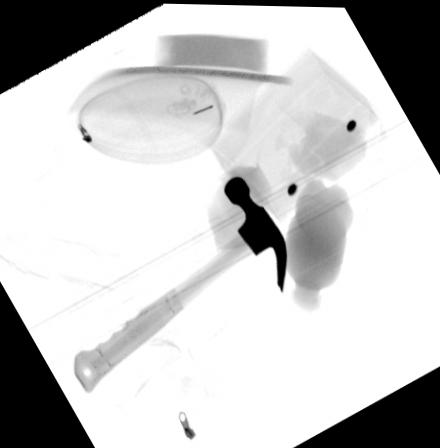Hammer: (71, 174, 286, 392)
